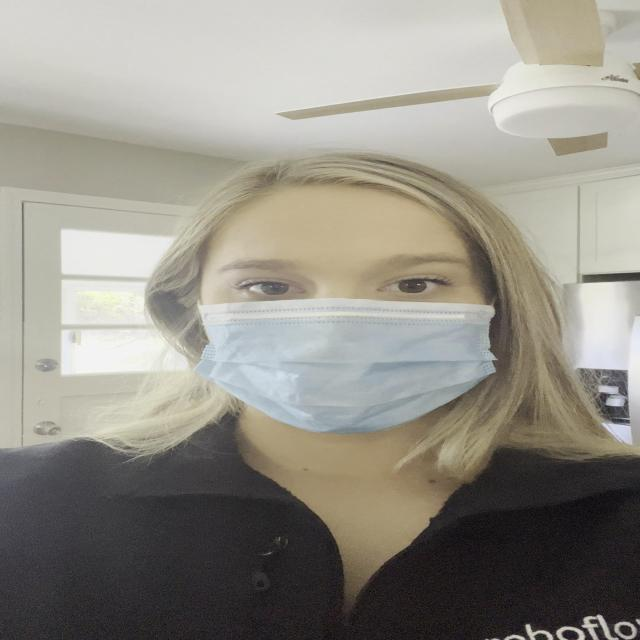no-helmet: (160, 168, 528, 455)
